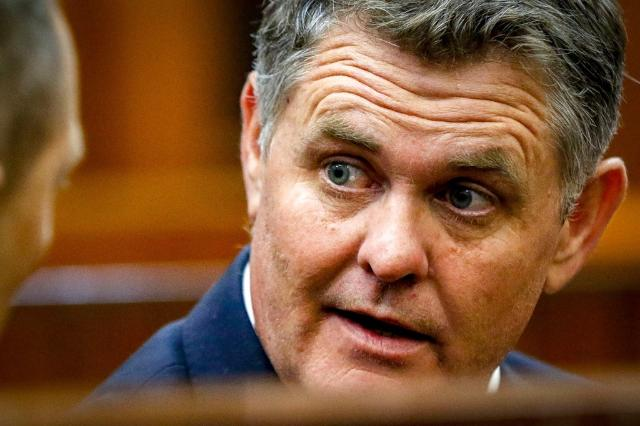forehead: (404, 104, 460, 136), (460, 84, 508, 116), (466, 109, 520, 135), (310, 83, 356, 113), (403, 76, 452, 102), (362, 77, 390, 119), (318, 46, 350, 76), (504, 74, 540, 100), (513, 134, 535, 164)
